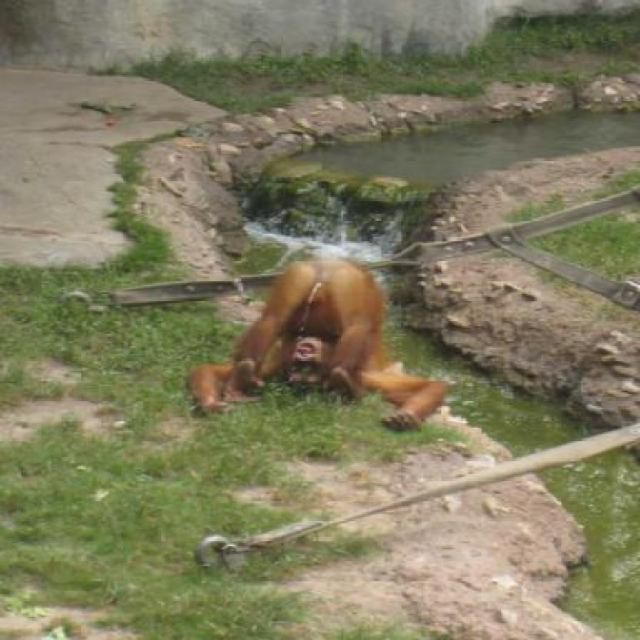Monkey: (168, 214, 444, 480)
